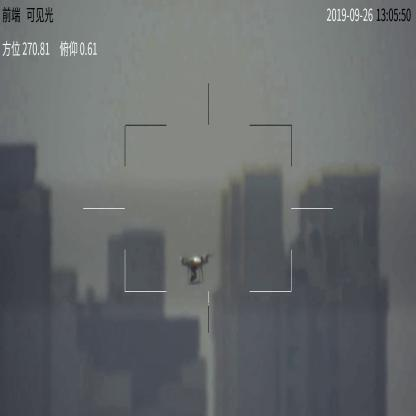uav: (180, 251, 210, 283)
